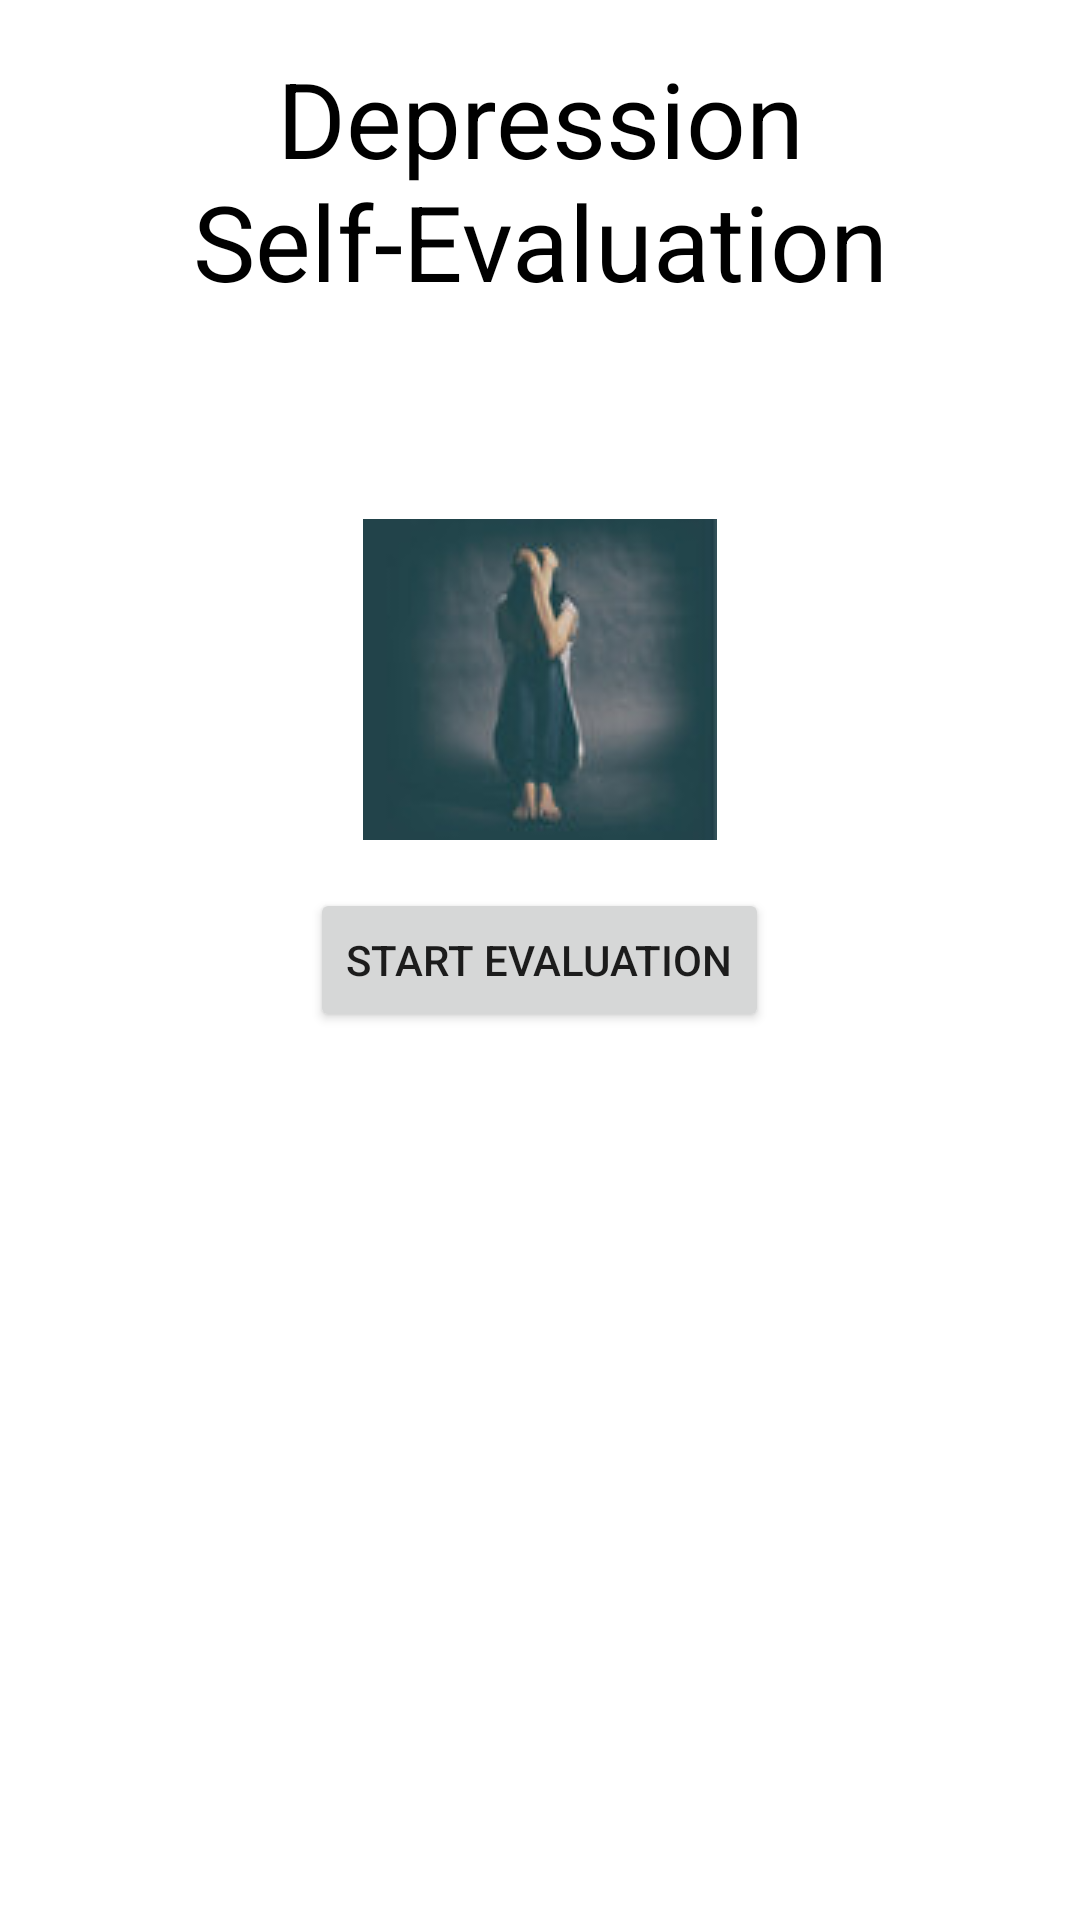

Screen size 1080 × 1920. Icon name, then its center in pixels as [x,y]:
Depression: [540,679]
